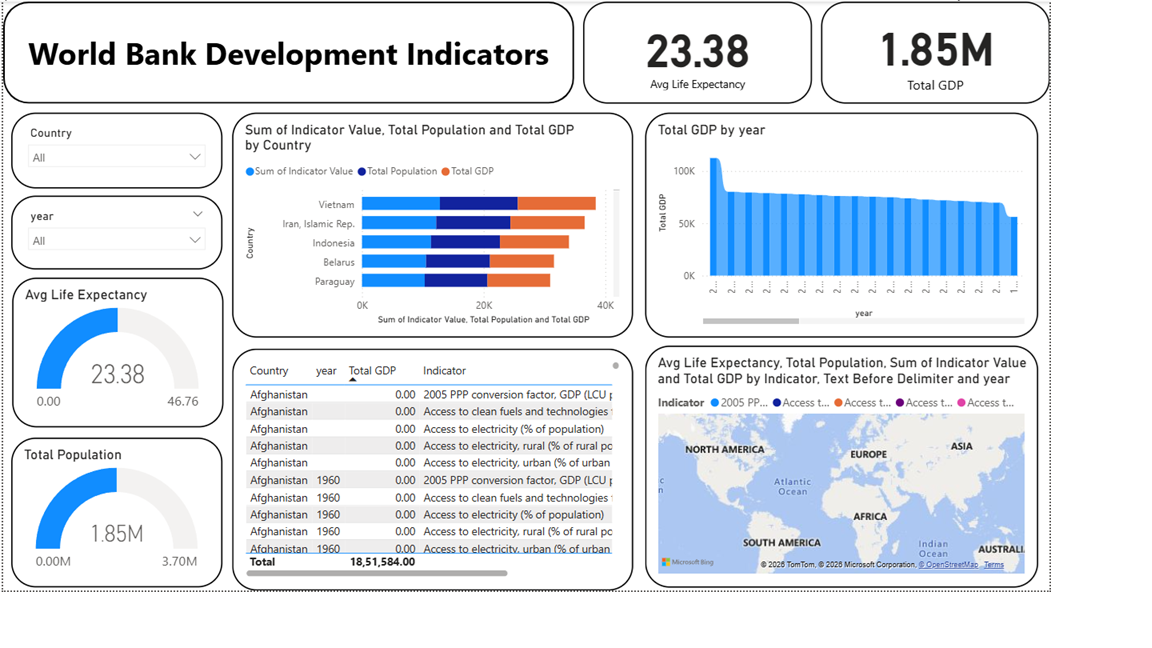

Layout of this report page (visuals, bound fields, positions):
{"tool":"powerbi","page":{"name":"Page 1","canvas":[1280,720],"ordinal":0},"visuals":[{"type":"card","fields":{"Values":["WDIData.Total GDP"]},"box":[1000.3,0,279.9,124.9],"z":0},{"type":"card","fields":{"Values":["WDIData.Avg Life Expectancy"]},"box":[709.2,0,280,124.7],"z":1000},{"type":"shape","box":[0,0,698.2,124.7],"z":2000},{"type":"ribbonChart","fields":{"Y":["WDIData.Total GDP"],"Category":["WDIData.year"]},"box":[785.1,135.7,480.6,275.1],"z":3000},{"type":"barChart","fields":{"Y":["Sum(WDIData.Indicator Value)","WDIData.Total Population","WDIData.Total GDP"],"Category":["WDIData.Country"]},"box":[280,135.7,490.4,275.1],"z":4000},{"type":"map","fields":{"Category":["WDIData.Country"],"Series":["WDIData.Indicator"],"Size":["WDIData.Avg Life Expectancy"],"Y":["WDIData.Text Before Delimiter"],"X":["WDIData.year"]},"box":[785.1,420.7,480.6,295.9],"z":5000},{"type":"tableEx","fields":{"Values":["WDIData.Country","WDIData.year","WDIData.Total GDP","WDIData.Indicator"]},"box":[280,424.3,490.4,295.9],"z":6000},{"type":"slicer","fields":{"Values":["WDIData.Country"]},"box":[9.8,135.7,258,92.9],"z":7000},{"type":"slicer","fields":{"Values":["WDIData.year"]},"box":[9.8,237.2,258,90.5],"z":8000},{"type":"gauge","fields":{"Y":["WDIData.Total Population"]},"box":[9.8,533.2,258,183.4],"z":9000},{"type":"gauge","fields":{"Y":["WDIData.Avg Life Expectancy"]},"box":[11,337.5,258,183.4],"z":10000}]}

Visuals, with their boxes in screenshot pixels (x1, y1, x2, y2), scaled from the page's 1280x720 canvas onto the 1152x648 screenshot:
card - WDIData.Total GDP: crop(900, 0, 1151, 112)
card - WDIData.Avg Life Expectancy: crop(638, 0, 890, 112)
shape: crop(0, 0, 628, 112)
ribbonChart - WDIData.Total GDP x WDIData.year: crop(707, 122, 1139, 370)
barChart - Sum(WDIData.Indicator Value) x WDIData.Total Population: crop(252, 122, 693, 370)
map - WDIData.Country x WDIData.Indicator: crop(707, 379, 1139, 645)
tableEx - WDIData.Country x WDIData.year: crop(252, 382, 693, 647)
slicer - WDIData.Country: crop(9, 122, 241, 206)
slicer - WDIData.year: crop(9, 213, 241, 295)
gauge - WDIData.Total Population: crop(9, 480, 241, 645)
gauge - WDIData.Avg Life Expectancy: crop(10, 304, 242, 469)
